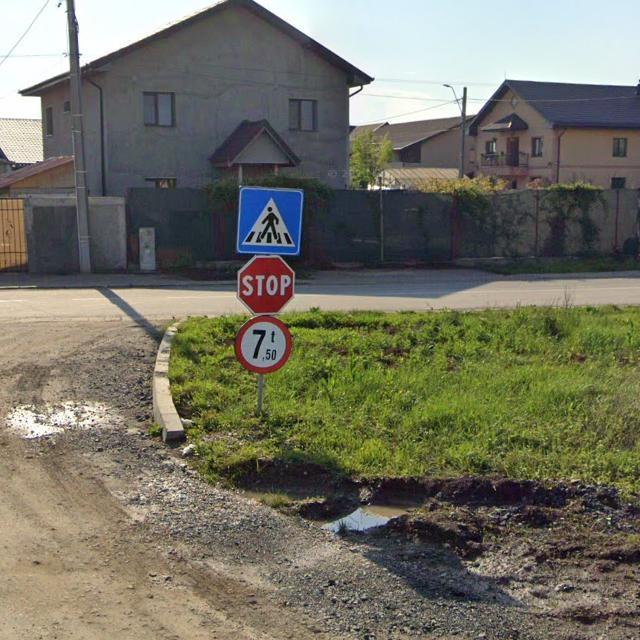info_crosswalk: (235, 188, 305, 257)
prio_stop: (237, 257, 296, 315)
